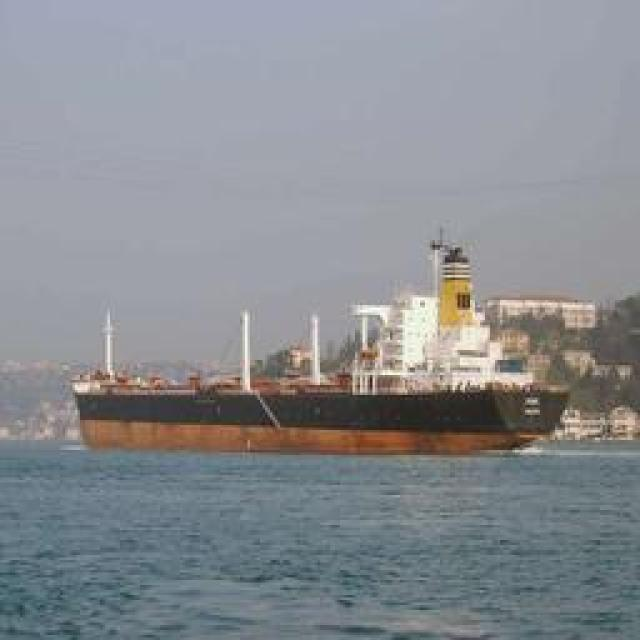ship: (72, 314, 562, 451)
